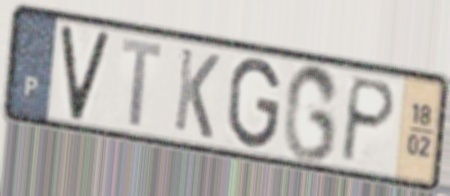G: (280, 61, 342, 165), (225, 55, 283, 151)
K: (171, 44, 222, 143)
P: (337, 73, 399, 166)
T: (119, 35, 165, 131)
V: (58, 25, 112, 124)
